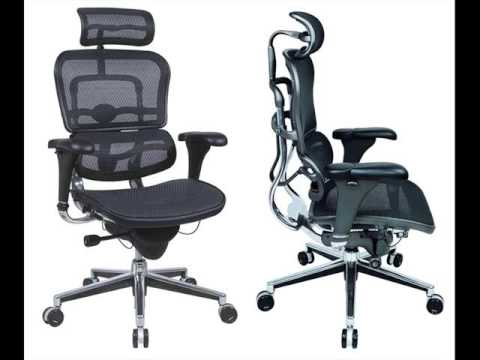chairs: (41, 5, 240, 348), (256, 9, 445, 350)
